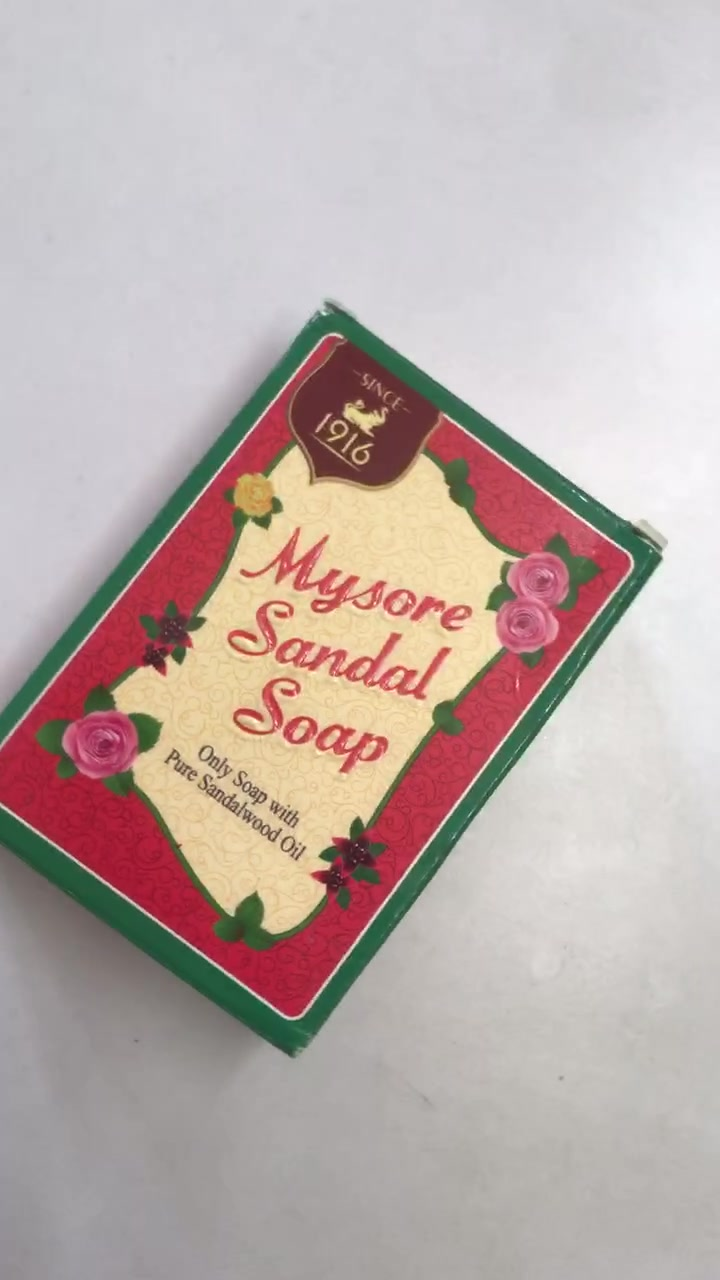mysore sandal soap: (1, 293, 659, 1056)
